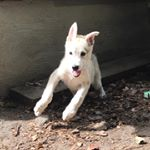puppy: (30, 18, 106, 123)
